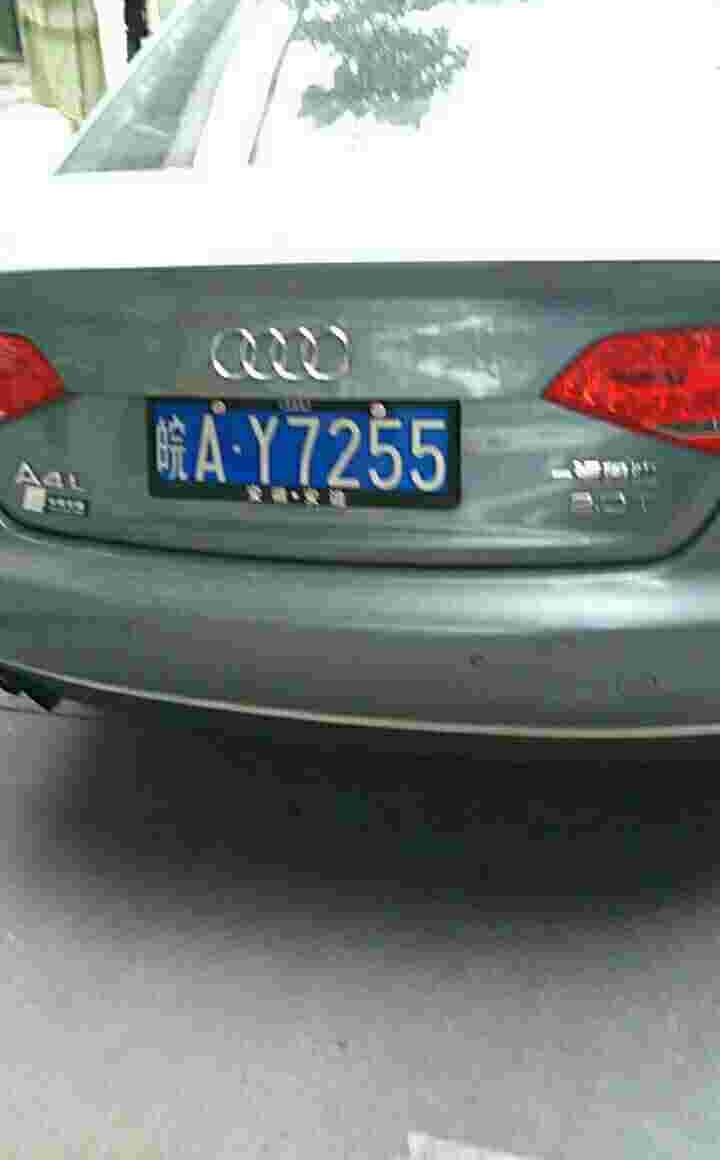license_plate: (151, 403, 454, 487)
